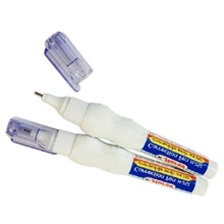correction_fluid: (31, 89, 220, 184), (4, 114, 210, 198)
